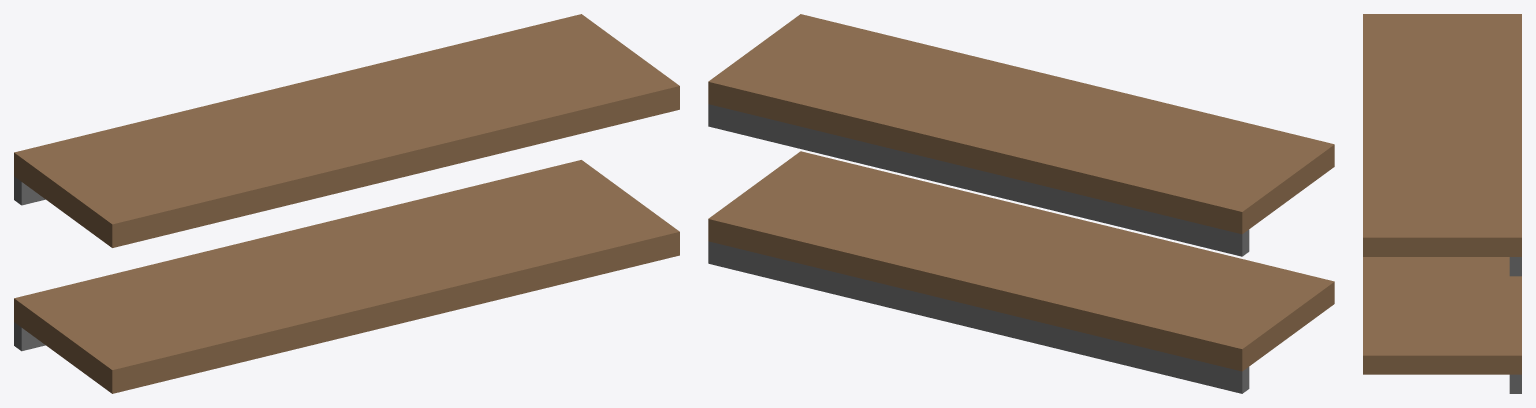
The model's file is Mensole 2.fbx.
The picture shows the model from 3 angles, left to right: view 1: azimuth 30°, elevation 25°; view 2: azimuth 150°, elevation 25°; view 3: azimuth 270°, elevation 25°; orthographic projection. The views are drawn at different scales.
Visible parts, largest first — view 1: Shelf_Wall_2, Shelf_Wall_1; view 2: Shelf_Wall_1, Shelf_Wall_2; view 3: Shelf_Wall_1, Shelf_Wall_2.
Part boxes in pixels (box(x1,y1,x2,y2)): Shelf_Wall_2: box(14, 160, 679, 393); Shelf_Wall_1: box(14, 14, 679, 247); Shelf_Wall_1: box(708, 14, 1334, 256); Shelf_Wall_2: box(708, 151, 1334, 393); Shelf_Wall_1: box(1363, 14, 1521, 276); Shelf_Wall_2: box(1363, 257, 1521, 393).
Size of the model in its own units: 50 by 16.28 by 15.
